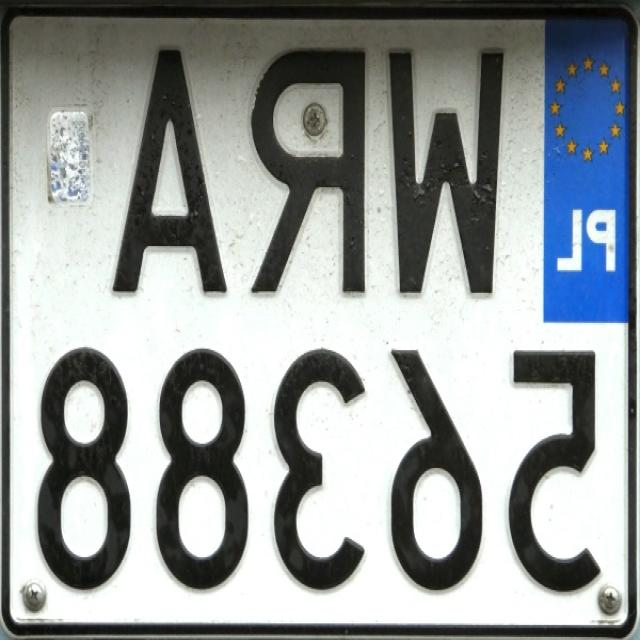pl_license_plate: (9, 17, 630, 620)
